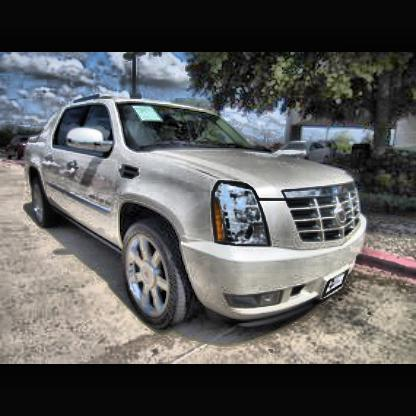Cadillac Escalade EXT Crew Cab 2007: (17, 93, 374, 338)
